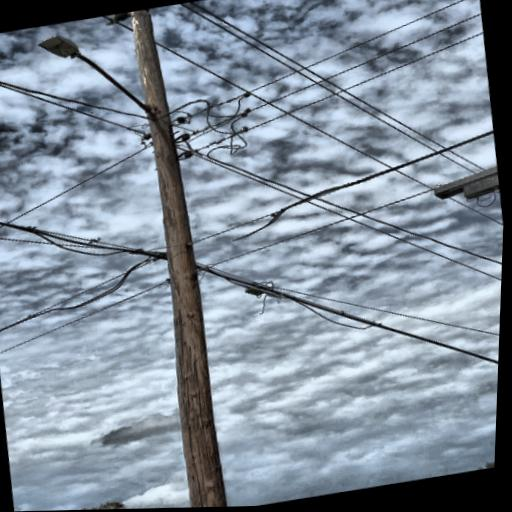pole: (92, 1, 257, 510)
street light: (32, 18, 167, 136)
